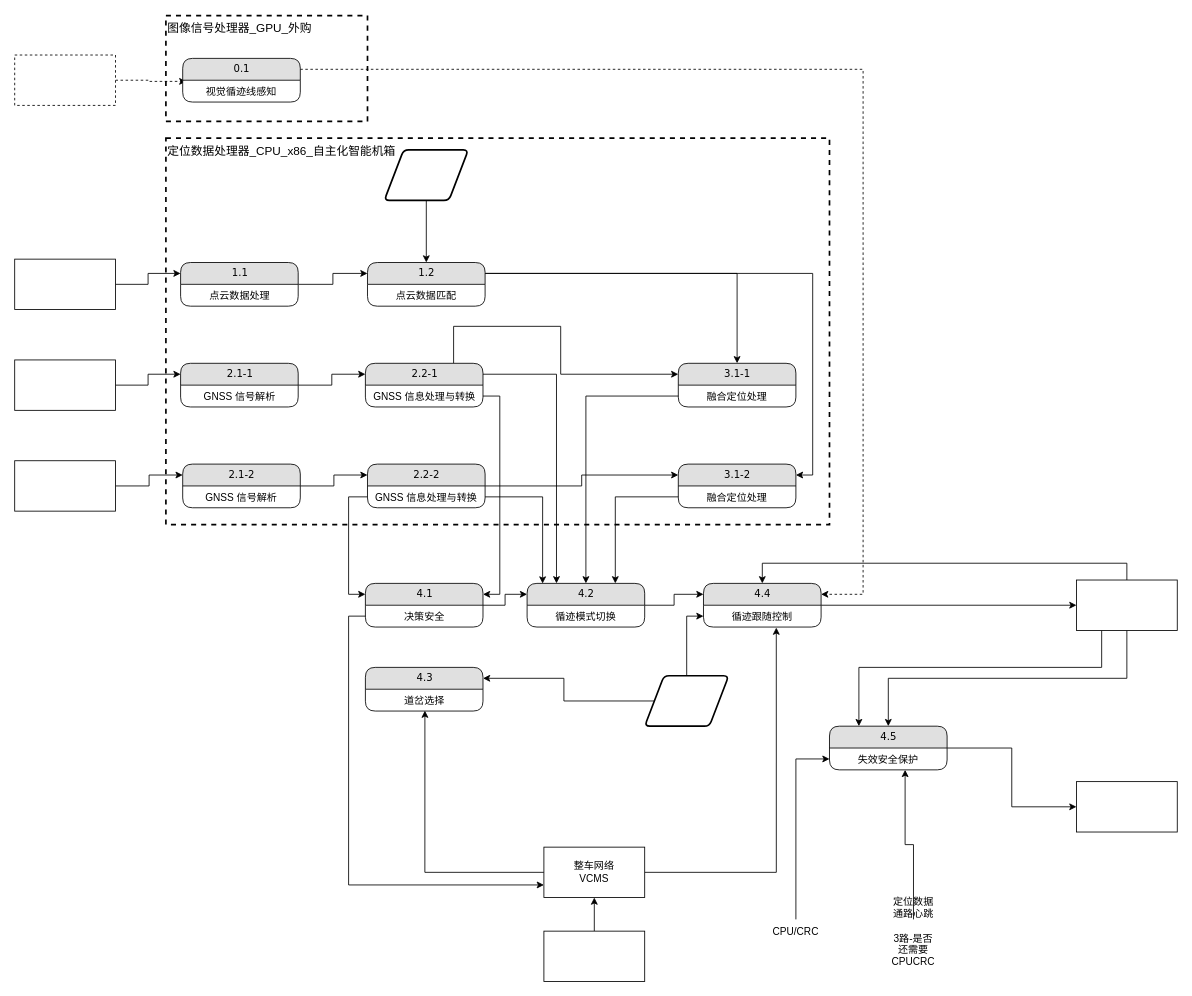
The diagram is 1192 pixels wide and 996 high, and some of its shapes have lost their labels. Each missing label, with the centre of its shape:
"GPS/RTK -1" goes at point (65, 384).
"GPS/RTK -2" goes at point (65, 485).
"信号系统 SCS" goes at point (594, 956).
"制动系统 安全制动" goes at point (1126, 806).
"无轨导向-第一轴 转角执行" goes at point (1126, 604).
"点云地图" goes at point (426, 175).
"点云数据" goes at point (65, 284).
"矢量地图" goes at point (686, 701).
"视觉数据" goes at point (65, 79).
